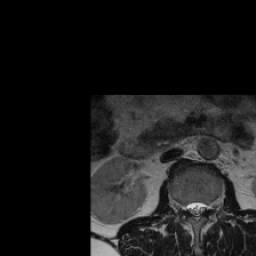CCS_normal: (193, 194, 199, 224)
LFS_stenosis: (206, 195, 214, 216)
LLS_normal: (199, 195, 206, 216)
RFS_normal: (179, 197, 186, 215)
RLS_normal: (186, 196, 193, 216)
